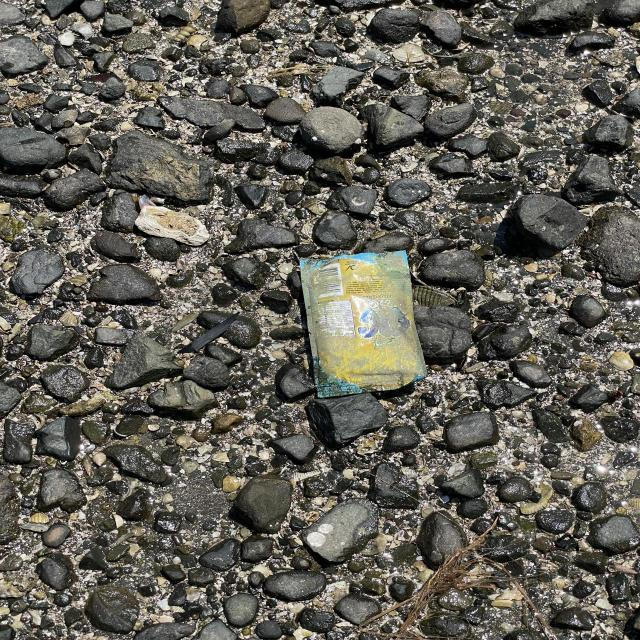litter: (304, 248, 430, 398)
